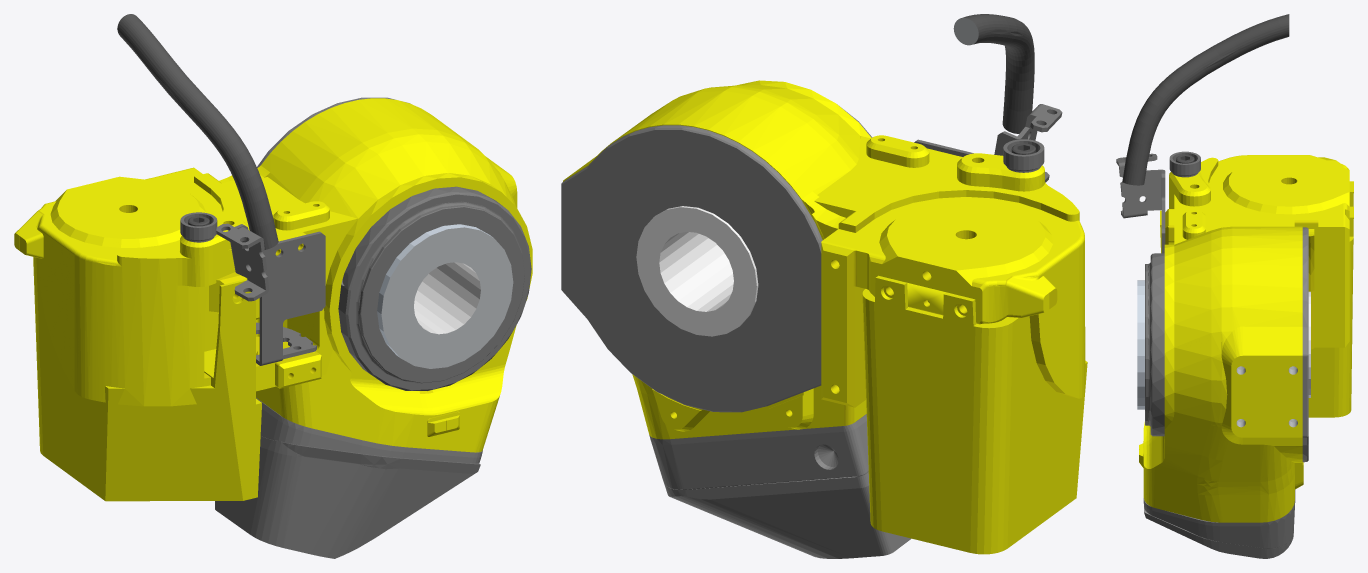
Rendered from arm3.dae.
3 renders of one model, left to right at view 1: azimuth 30°, elevation 25°; view 2: azimuth 150°, elevation 25°; view 3: azimuth 270°, elevation 25°, orthographic. The views are drawn at different scales.
Parts seen in each view (by area): view 1: G_1_3; view 2: G_1_3; view 3: G_1_3.
Part boxes in pixels (box(x1,y1,x2,y2)): G_1_3: box(14, 14, 532, 558); G_1_3: box(561, 14, 1087, 558); G_1_3: box(1116, 14, 1353, 558).
Size of the model in its own units: 0.379 by 0.205 by 0.4328.
